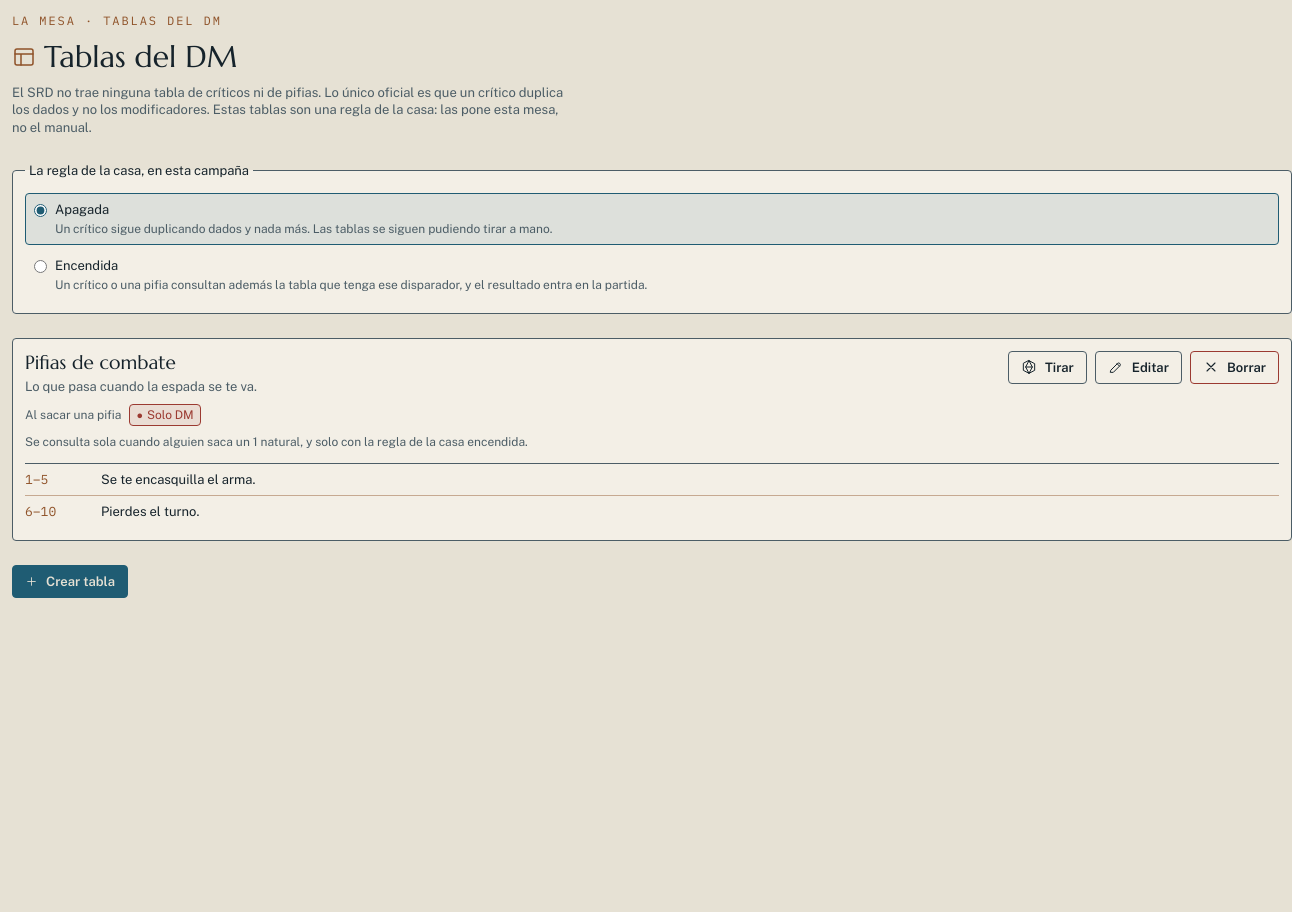
Scenario: PanelDeTablas — la lista › tirar una tabla con botín enseña el objeto por su nombre y ofrece darlo (B5, montado de verdad)
Click the button "Tirar" at (1047, 367), box [1008,351,1087,384]
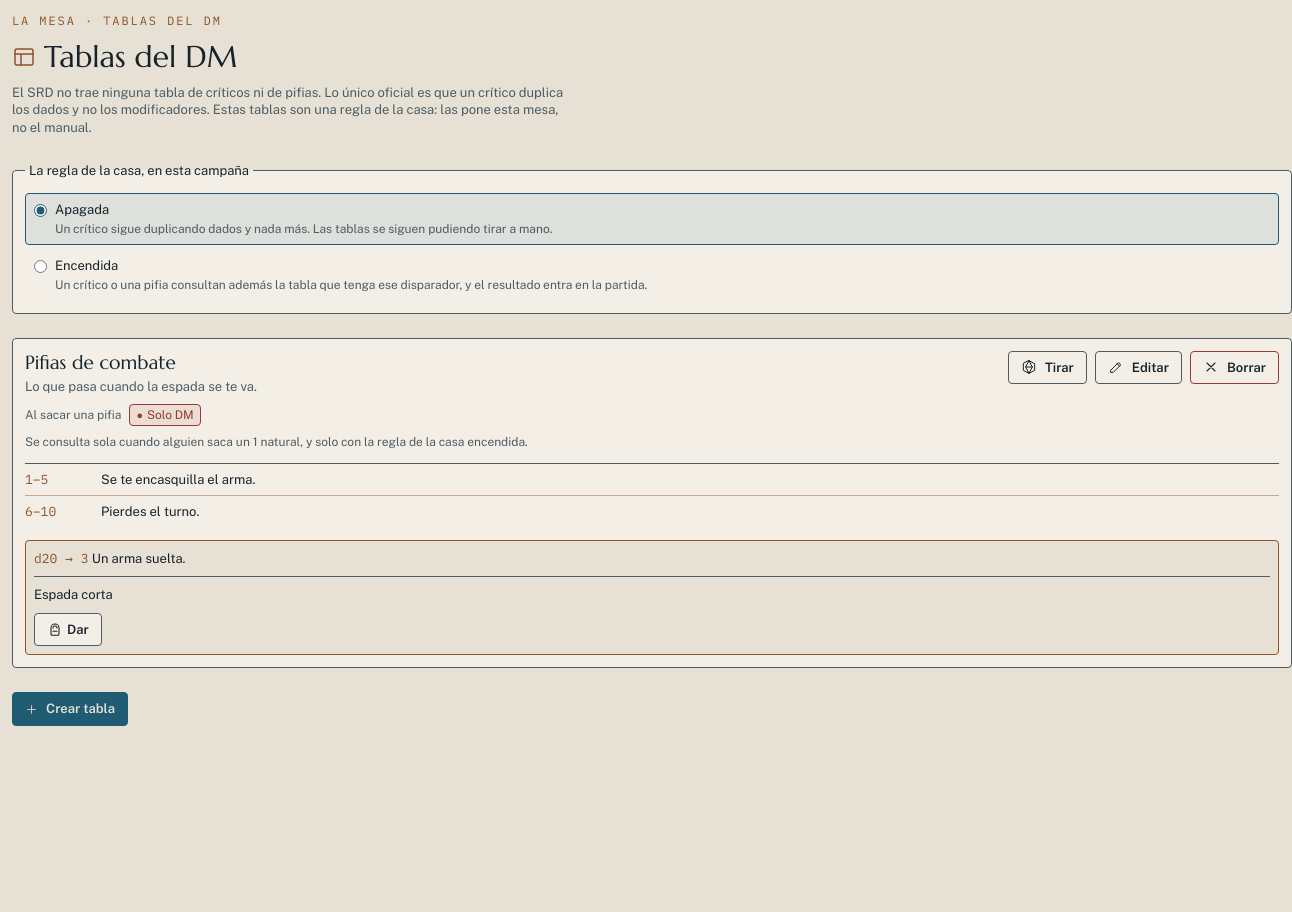
Check: the list item "Espada corta" is shown, box [34,587,113,602]
Check: the button "Dar" is shown, box [34,613,102,646]
